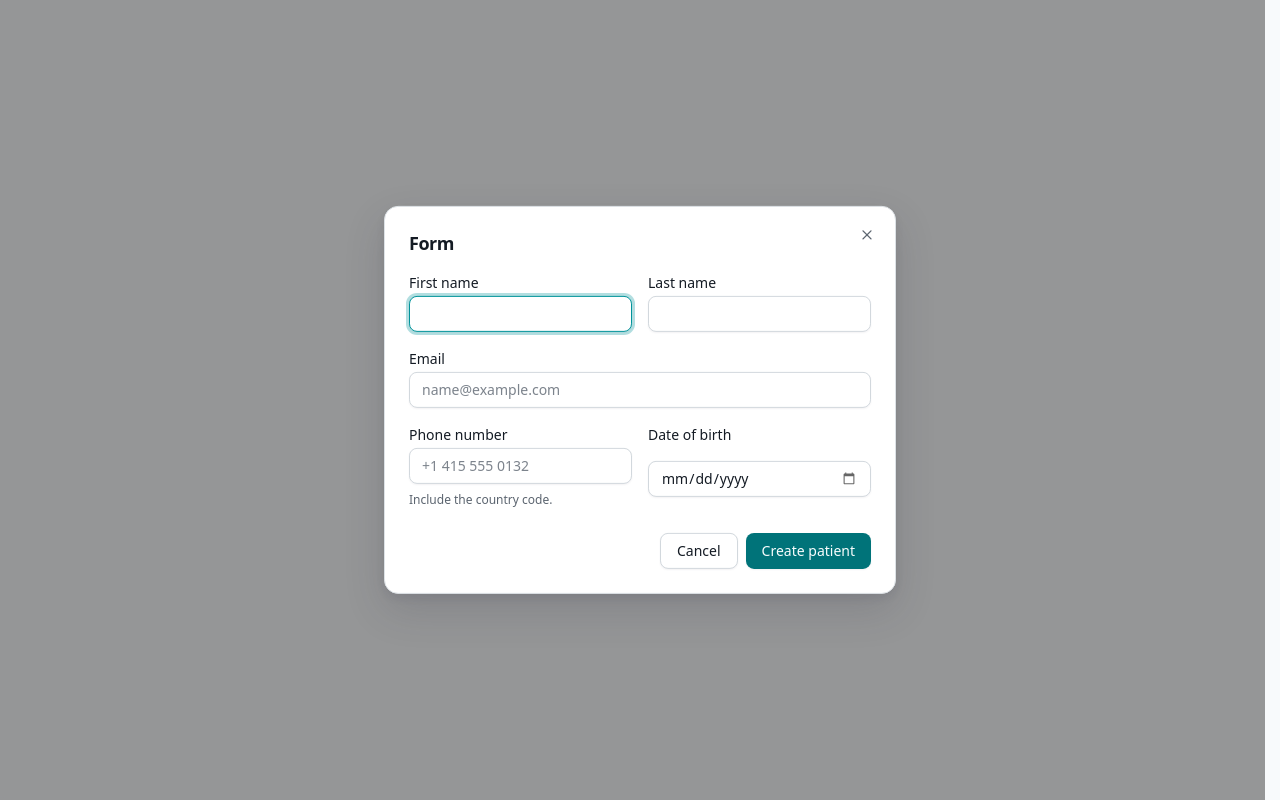
PatientForm › validates formats with the shared contract rules
This screenshot has width=1280, height=800.
Type "not-an-email" into the field labelled "Email" at (640, 390), box [409,372,871,408]
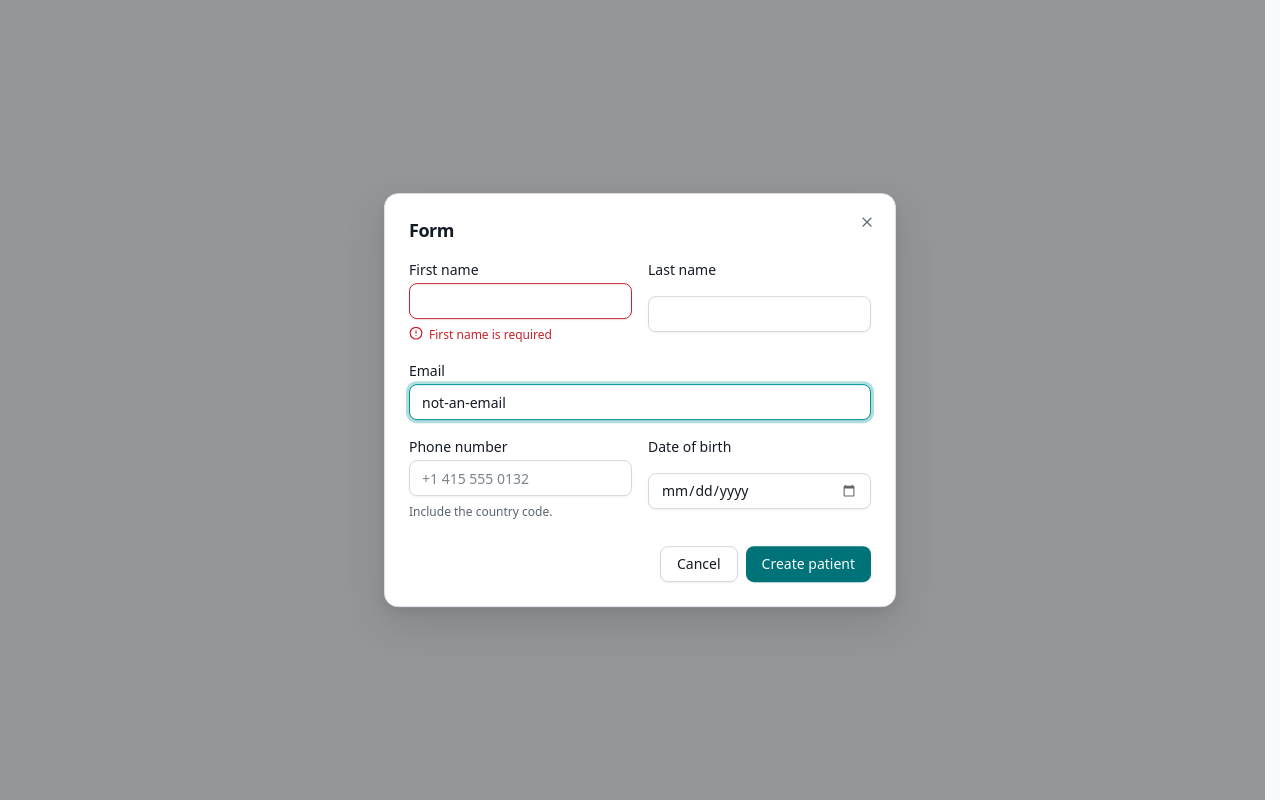
Type "555-0132" into the field labelled "Phone number" at (520, 478), box [409,460,632,496]
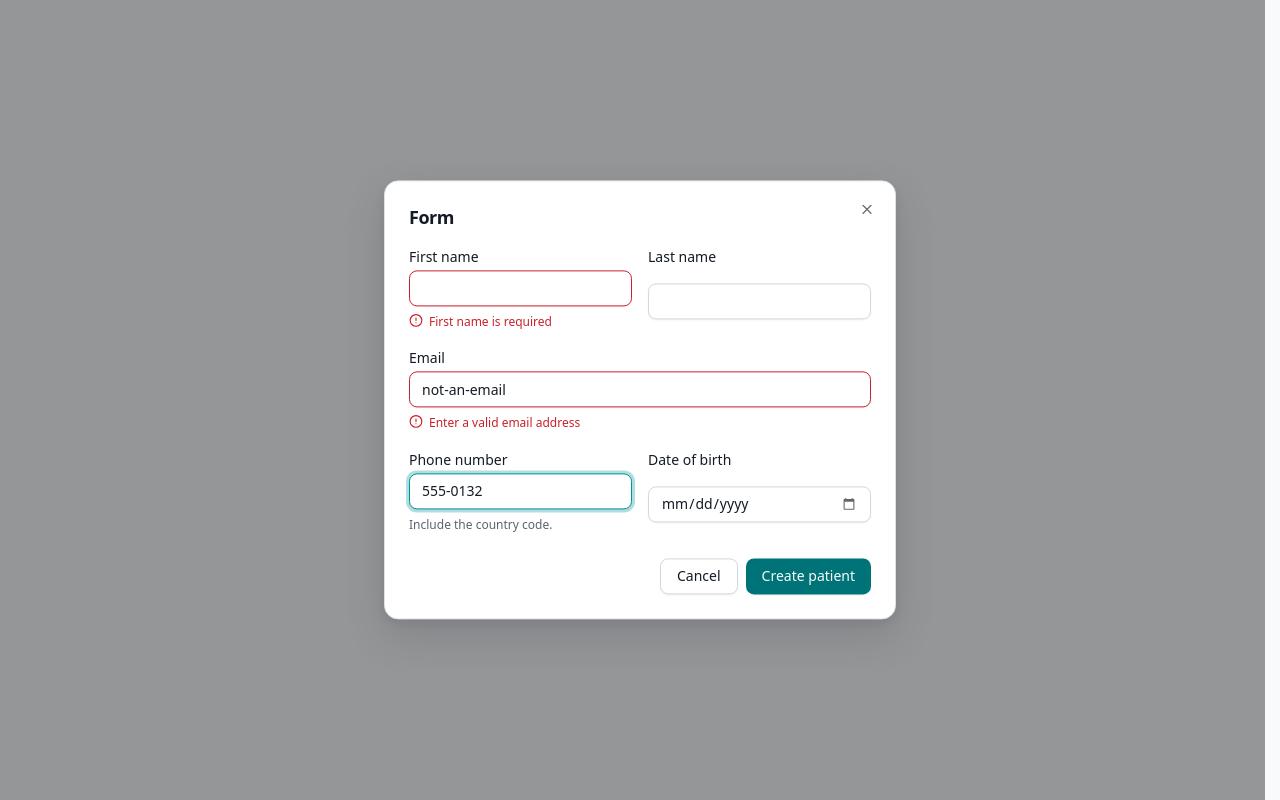
Click the button "Create patient" at (808, 577), box [746,559,871,595]
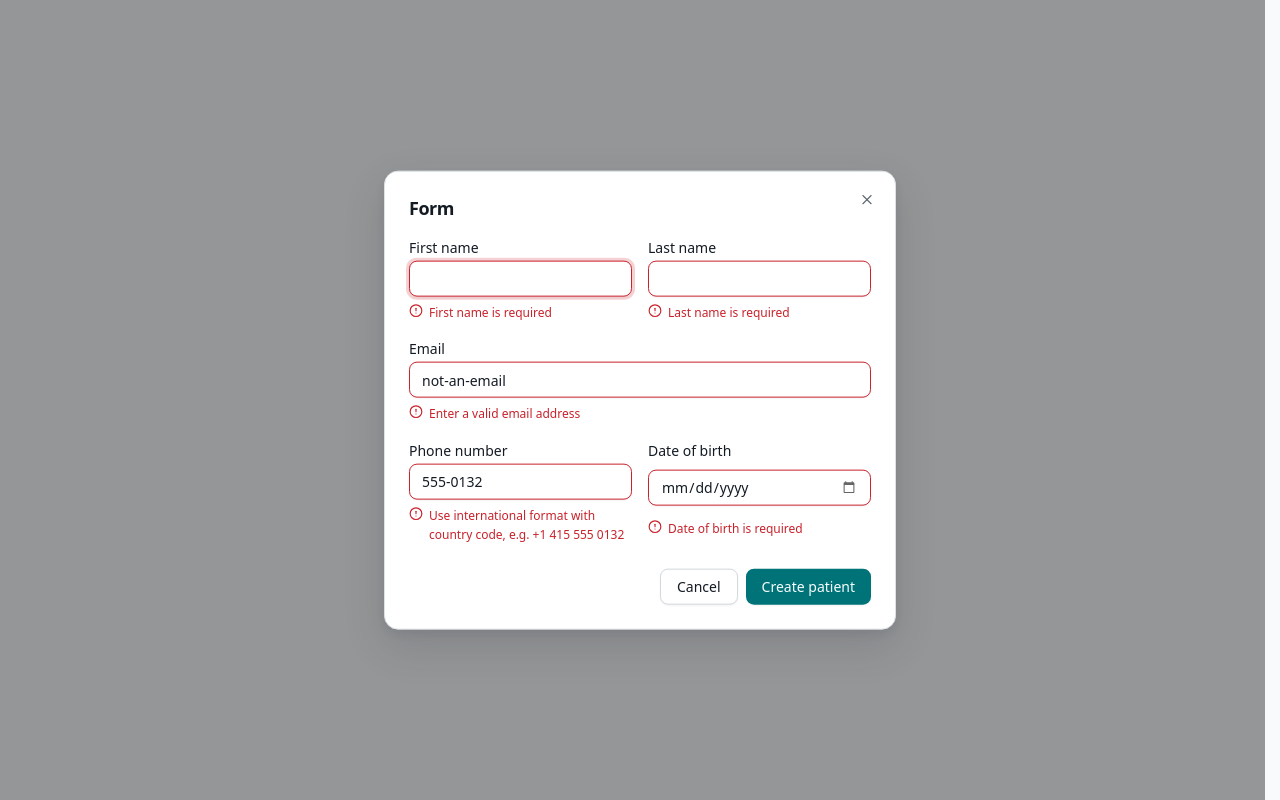
Check: the text "Enter a valid email address" is shown, box [409,405,580,422]
Check: the text "Use international format with country code, e.g. +1 415 555 0132" is shown, box [409,505,632,544]
